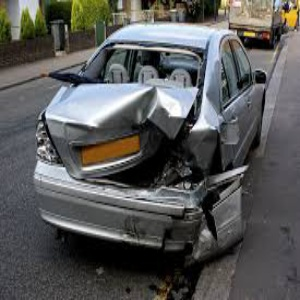bonnet: (53, 78, 188, 178)
bumper: (111, 166, 246, 264)
